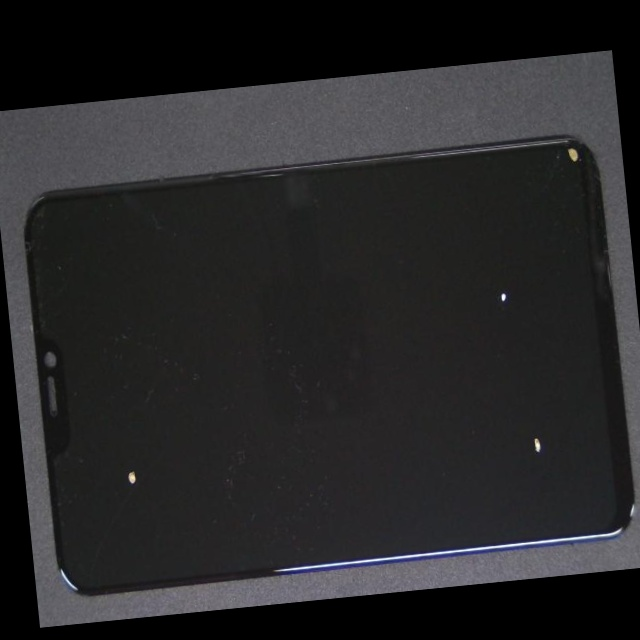stain: (248, 192, 640, 603), (210, 151, 640, 445), (68, 254, 184, 621)
